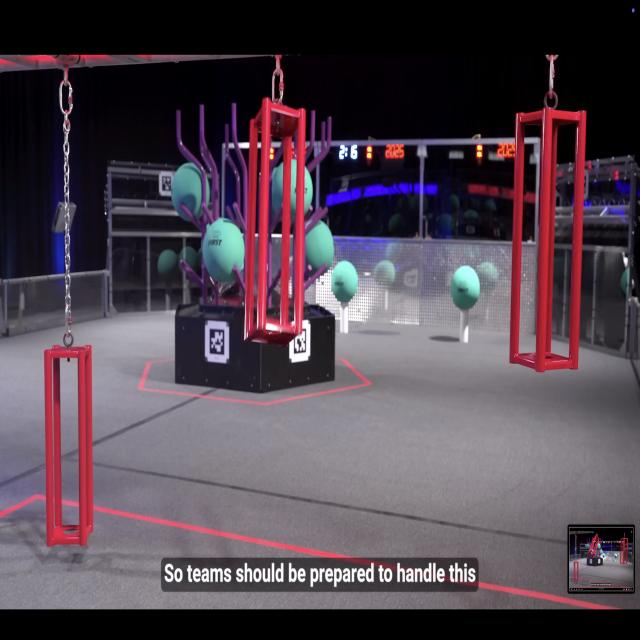algae: (201, 211, 248, 286), (292, 216, 334, 280), (271, 160, 314, 220), (171, 159, 213, 218), (329, 261, 361, 303), (451, 267, 481, 311)
coral: (457, 306, 472, 346), (340, 296, 350, 338)
